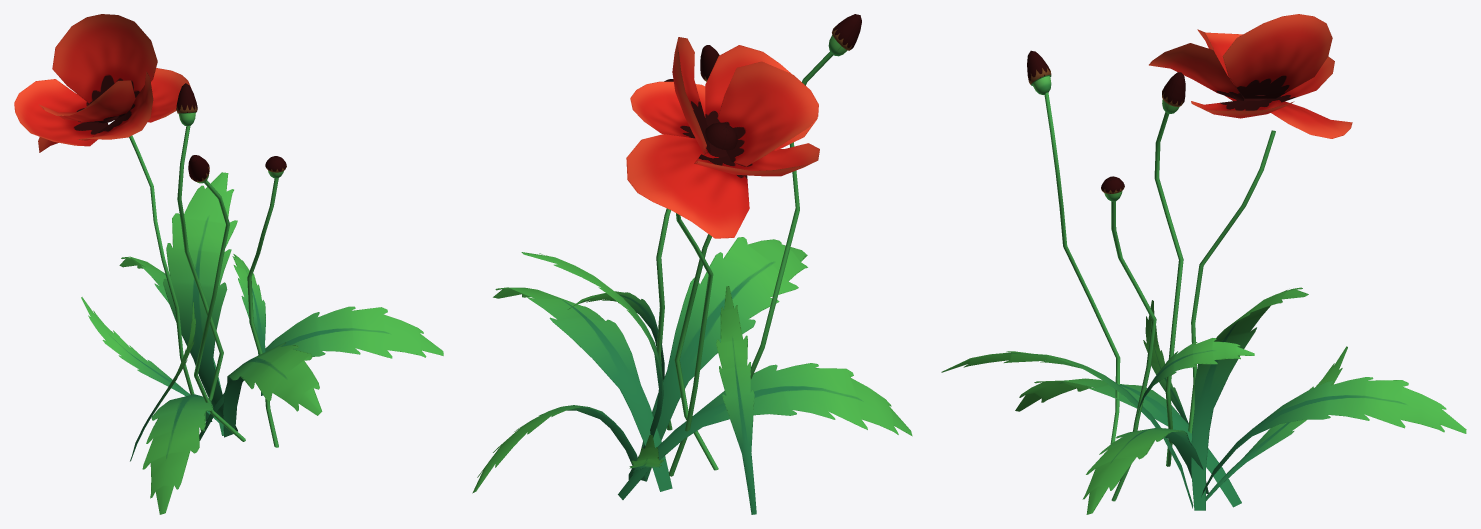
File: SM_Coquelicot2.fbx
3 renders of one model, left to right at view 1: azimuth 30°, elevation 25°; view 2: azimuth 150°, elevation 25°; view 3: azimuth 270°, elevation 25°, orthographic. The views are drawn at different scales.
Parts seen in each view (by area): view 1: Coquelicot_Feuille_051; view 2: Coquelicot_Feuille_051; view 3: Coquelicot_Feuille_051.
Part boxes in pixels (left/top/right/bottom): Coquelicot_Feuille_051: left=14, top=14, right=443, bottom=514; Coquelicot_Feuille_051: left=472, top=14, right=912, bottom=514; Coquelicot_Feuille_051: left=941, top=14, right=1466, bottom=514.
Bounding box in the file's own units: 55.38 × 66.32 × 63.74.
Materials: 1 (1 with a texture image).
